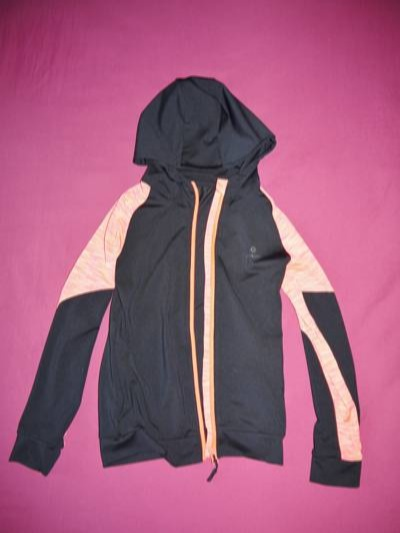Hoodie: (6, 83, 388, 497)
